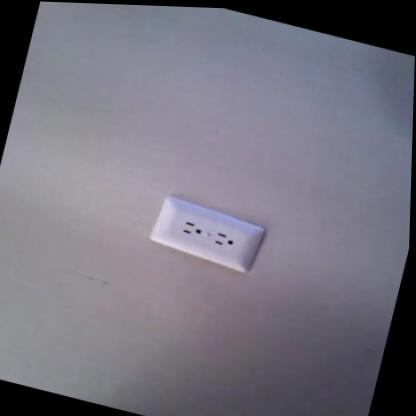OUTLET: (145, 192, 268, 274)
